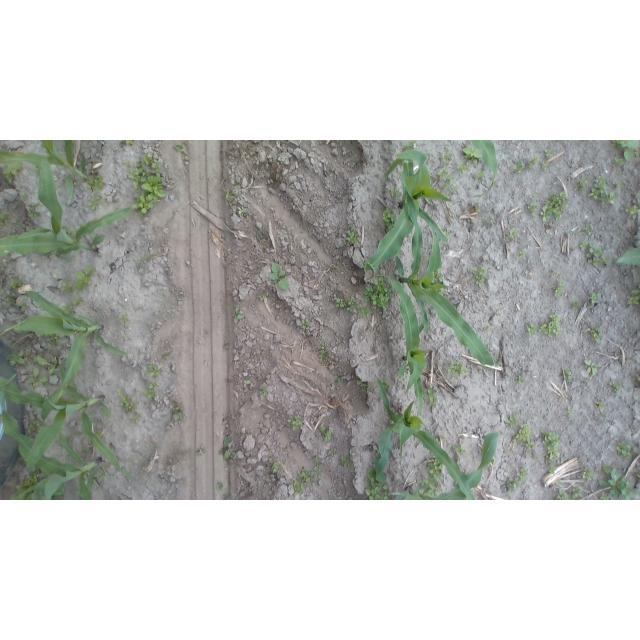Maize: (394, 179, 496, 367), (1, 291, 126, 424), (0, 376, 132, 479), (374, 373, 476, 499), (365, 150, 451, 281), (1, 410, 104, 500), (1, 141, 92, 237), (393, 430, 499, 500), (376, 273, 427, 416), (0, 206, 132, 259), (468, 140, 498, 197), (615, 246, 640, 267)
Weeds: (123, 153, 165, 214), (598, 464, 639, 500), (587, 173, 621, 210), (292, 456, 321, 496), (419, 458, 445, 497), (363, 277, 393, 310), (265, 259, 293, 293), (578, 240, 610, 268), (542, 191, 568, 225), (523, 313, 561, 336), (10, 474, 37, 500), (506, 466, 530, 493), (539, 432, 562, 460), (512, 423, 532, 450), (365, 468, 381, 500), (218, 434, 236, 462), (115, 387, 135, 411), (614, 140, 640, 158), (26, 369, 50, 388), (75, 267, 94, 291), (2, 163, 22, 184), (8, 349, 29, 369), (38, 357, 58, 376), (84, 172, 104, 191), (472, 264, 487, 289), (463, 145, 482, 164), (447, 360, 469, 376), (344, 228, 360, 250), (333, 298, 356, 313), (625, 285, 640, 308), (86, 194, 107, 210), (438, 149, 456, 167), (287, 415, 304, 434), (381, 208, 396, 229), (427, 388, 442, 408), (587, 326, 604, 343), (170, 400, 186, 418), (584, 359, 600, 377), (146, 382, 160, 402), (319, 422, 333, 442), (24, 419, 42, 434), (617, 439, 631, 458), (441, 182, 460, 196), (218, 484, 233, 501), (554, 281, 569, 298), (451, 442, 468, 457), (318, 342, 331, 361), (26, 203, 42, 218), (524, 192, 536, 212), (149, 363, 163, 380), (511, 158, 526, 173), (507, 414, 520, 431), (356, 379, 370, 394), (561, 364, 572, 383), (270, 462, 283, 478), (338, 456, 354, 469), (438, 168, 454, 181), (575, 176, 587, 193), (625, 205, 639, 219), (11, 275, 26, 288), (63, 282, 78, 294), (235, 307, 243, 329), (570, 487, 583, 500), (505, 229, 520, 240), (381, 484, 391, 500), (222, 189, 235, 201), (555, 489, 569, 500), (62, 304, 77, 314), (196, 445, 208, 457), (121, 468, 132, 481), (302, 318, 313, 331), (581, 224, 594, 235), (172, 141, 186, 151), (515, 375, 529, 385), (130, 411, 142, 422), (580, 468, 590, 481), (590, 293, 601, 304), (100, 468, 110, 480), (18, 191, 30, 201), (388, 190, 403, 198), (527, 452, 540, 461), (43, 334, 62, 340), (73, 296, 85, 305), (468, 204, 480, 213), (571, 300, 583, 309), (257, 389, 267, 399), (611, 381, 621, 391), (527, 155, 537, 165), (455, 164, 469, 171), (119, 141, 138, 146), (1, 215, 8, 228), (328, 445, 337, 455), (518, 248, 529, 256), (547, 465, 558, 473), (237, 206, 246, 215), (478, 170, 487, 179), (541, 162, 550, 171), (6, 295, 15, 303), (544, 148, 553, 156), (242, 379, 250, 387), (551, 269, 559, 277), (438, 434, 447, 441), (596, 403, 605, 410), (360, 312, 372, 317), (120, 314, 129, 320), (615, 156, 622, 163), (408, 142, 417, 147), (259, 295, 265, 302), (635, 373, 640, 380)
